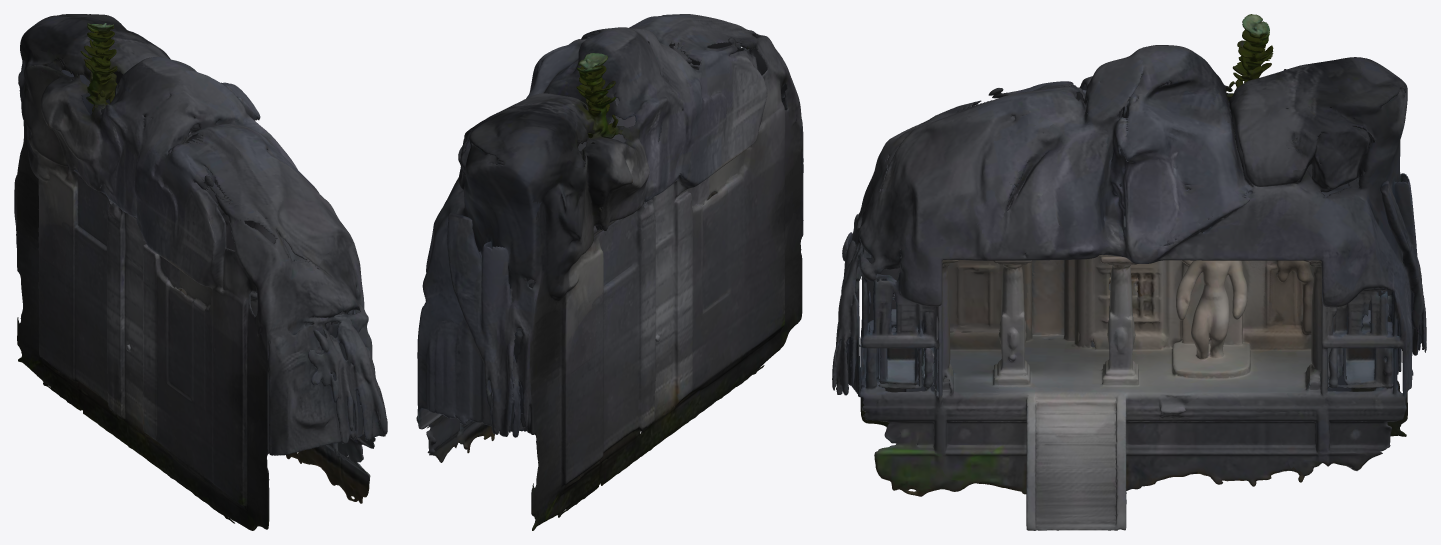
File: elephanta_caves.glb
3 renders of one model, left to right at view 1: azimuth 30°, elevation 25°; view 2: azimuth 150°, elevation 25°; view 3: azimuth 270°, elevation 25°, orthographic. The views are drawn at different scales.
Parts seen in each view (by area): view 1: tripo_node_2e3162b9-c840-4e7e-b28b-3b391b7d2b79; view 2: tripo_node_2e3162b9-c840-4e7e-b28b-3b391b7d2b79; view 3: tripo_node_2e3162b9-c840-4e7e-b28b-3b391b7d2b79.
Part boxes in pixels (box(x1,y1,x2,y2)): tripo_node_2e3162b9-c840-4e7e-b28b-3b391b7d2b79: box(14, 14, 387, 530); tripo_node_2e3162b9-c840-4e7e-b28b-3b391b7d2b79: box(416, 14, 803, 530); tripo_node_2e3162b9-c840-4e7e-b28b-3b391b7d2b79: box(832, 14, 1426, 530).
Size of the model in its own units: 0.4722 by 0.7977 by 1.
Materials: 1 (1 with a texture image).
